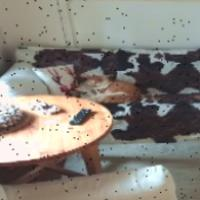asleep: (83, 74, 140, 103)
